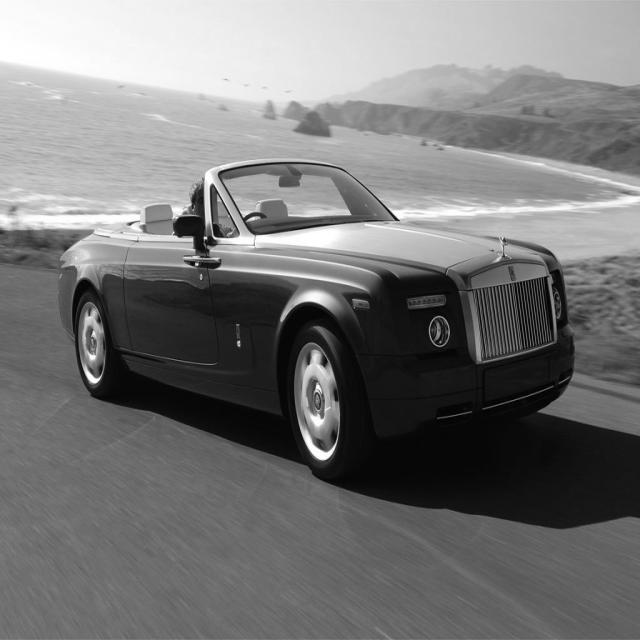car: (57, 157, 575, 481)
